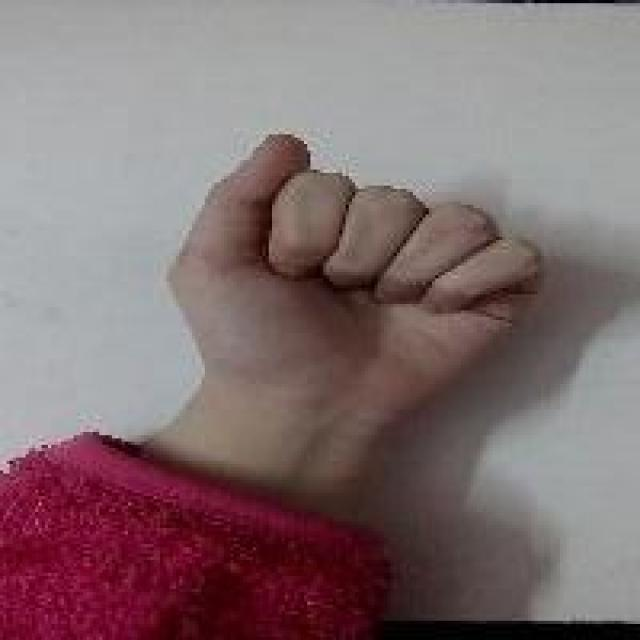A: (166, 124, 541, 393)
